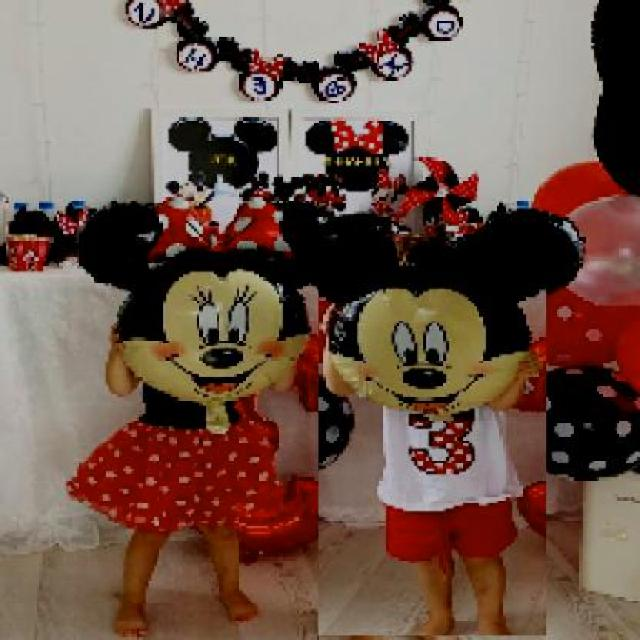child: (317, 234, 546, 637), (60, 234, 289, 637)
